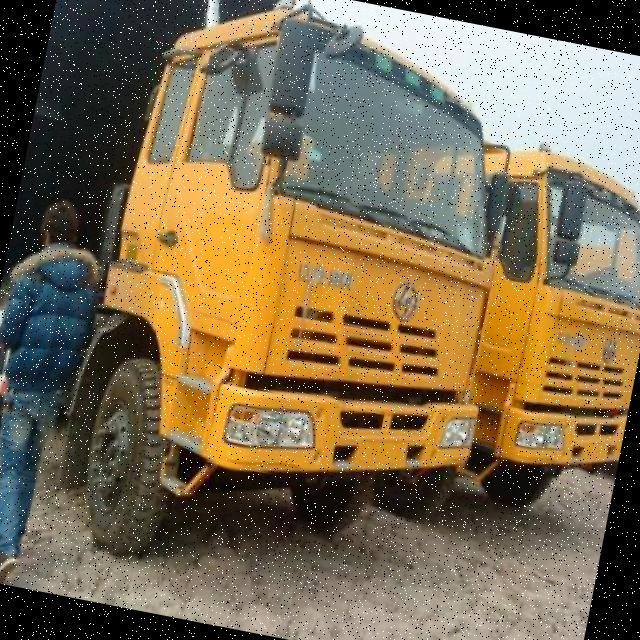Dump Truck: (0, 0, 555, 618), (390, 102, 640, 529)
